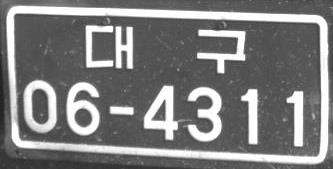0: (23, 79, 57, 132)
1: (279, 89, 315, 148), (235, 88, 268, 145)
3: (187, 85, 222, 143)
4: (142, 84, 178, 140)
6: (65, 80, 99, 135)
대구_D: (84, 24, 246, 73)
